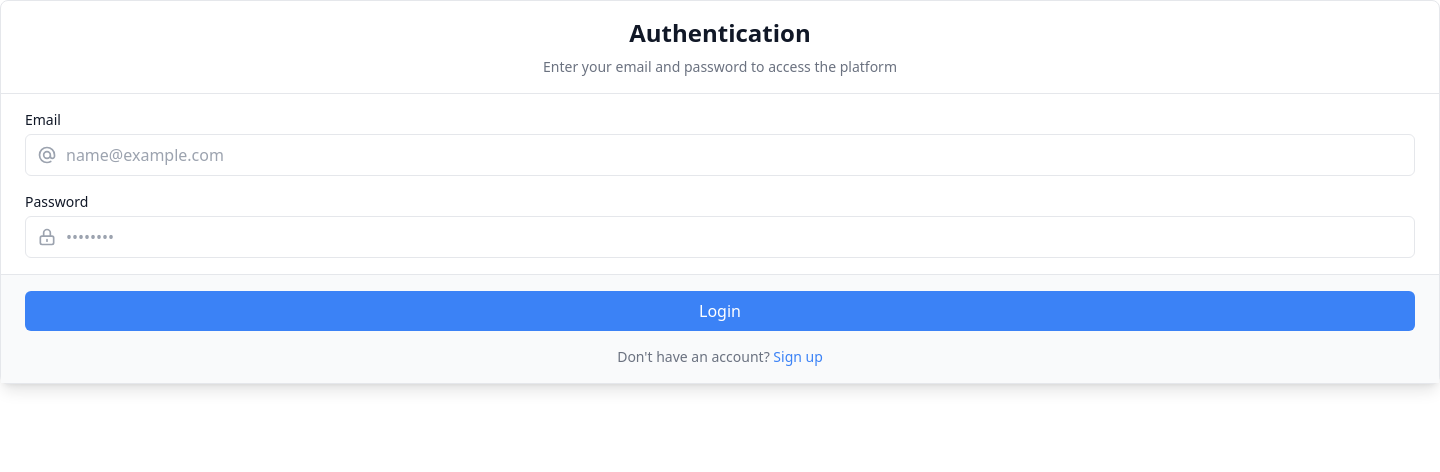
Test: LoginPage › Form Submission - Error Cases › should display error message when API returns error
The width and height of the screenshot is (1440, 472).
Type "test@example.com" into the field labelled "Email" at (720, 155), box [25, 134, 1415, 176]
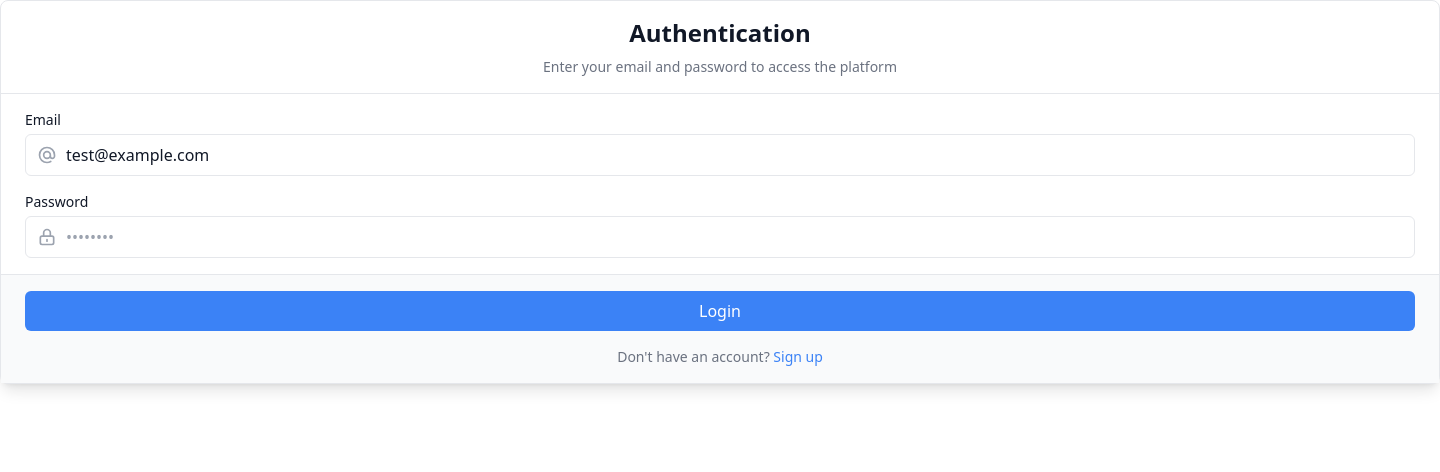
Type "wrongpassword" into the password field labelled "Password" at (720, 237), box [25, 216, 1415, 258]
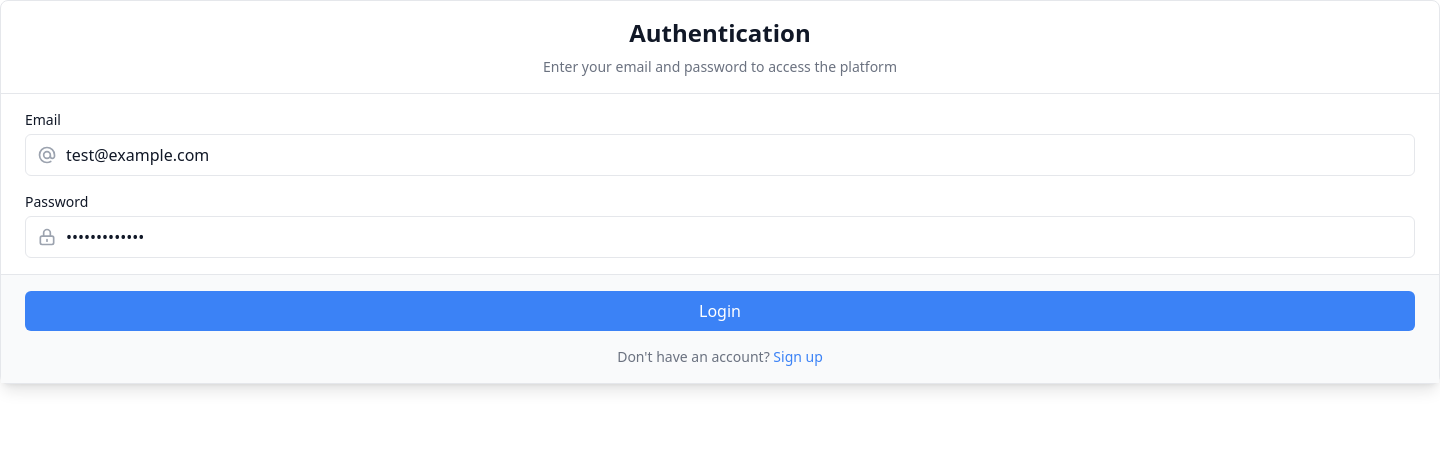
Submit the form labelled "Email Password Login Don't have an account? Sign up"
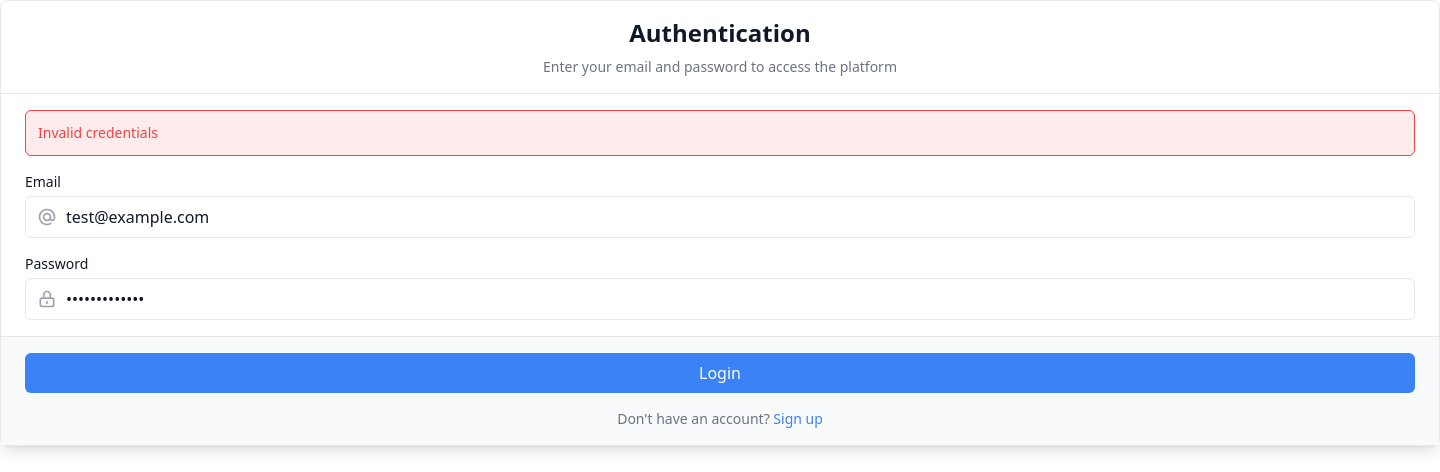
expect the text "Invalid credentials" is shown: met, box [25, 110, 1415, 156]
